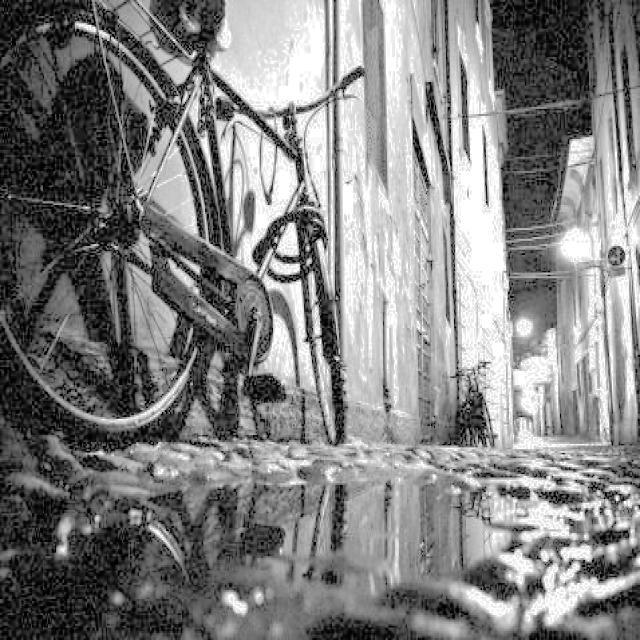Bicycle: (3, 7, 395, 458), (447, 353, 505, 444)
